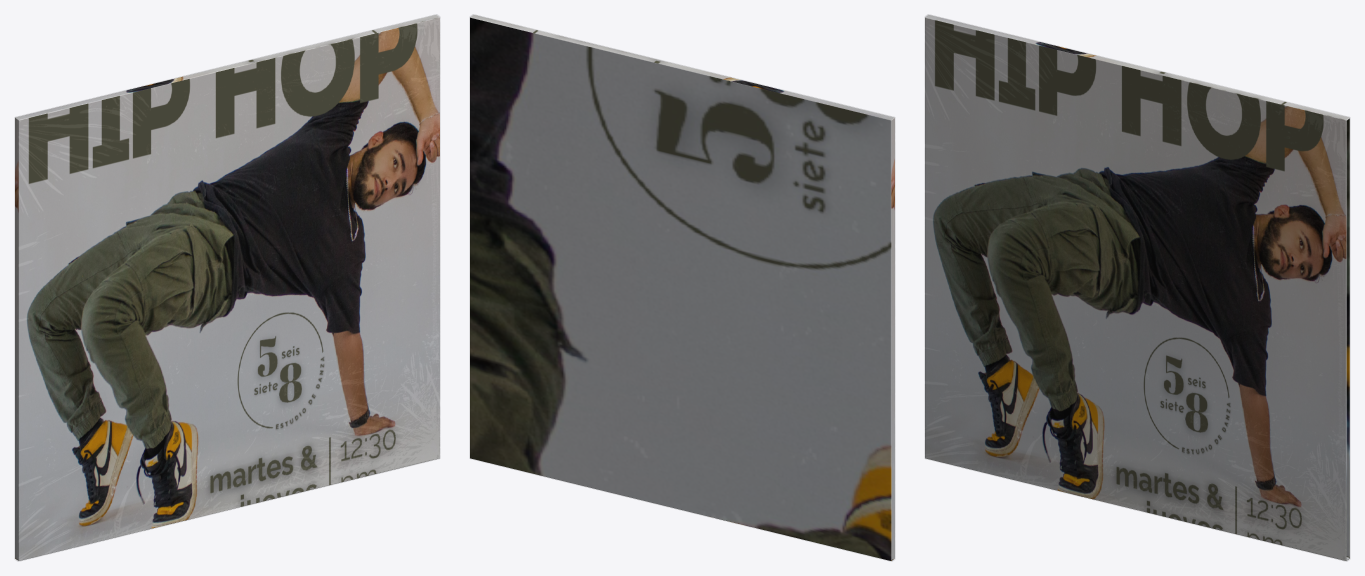
Rendered from album-Hiphop.gltf.
3 views of the same model, side by side, from view 1: azimuth 30°, elevation 25°; view 2: azimuth 150°, elevation 25°; view 3: azimuth 330°, elevation 25° (orthographic).
Parts seen in each view (by area): view 1: VinylRecord; view 2: VinylRecord; view 3: VinylRecord.
Part boxes in pixels (box(x1,y1,x2,y2)): VinylRecord: box(15, 15, 439, 560); VinylRecord: box(470, 15, 894, 560); VinylRecord: box(925, 15, 1349, 560).
Size of the model in its own units: 0.3153 by 0.3153 by 0.00502.
